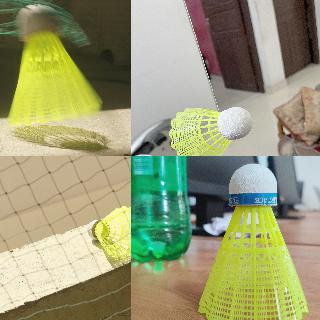shuttlecock: (196, 163, 309, 319), (5, 5, 100, 126), (168, 106, 252, 155), (86, 206, 130, 259)
